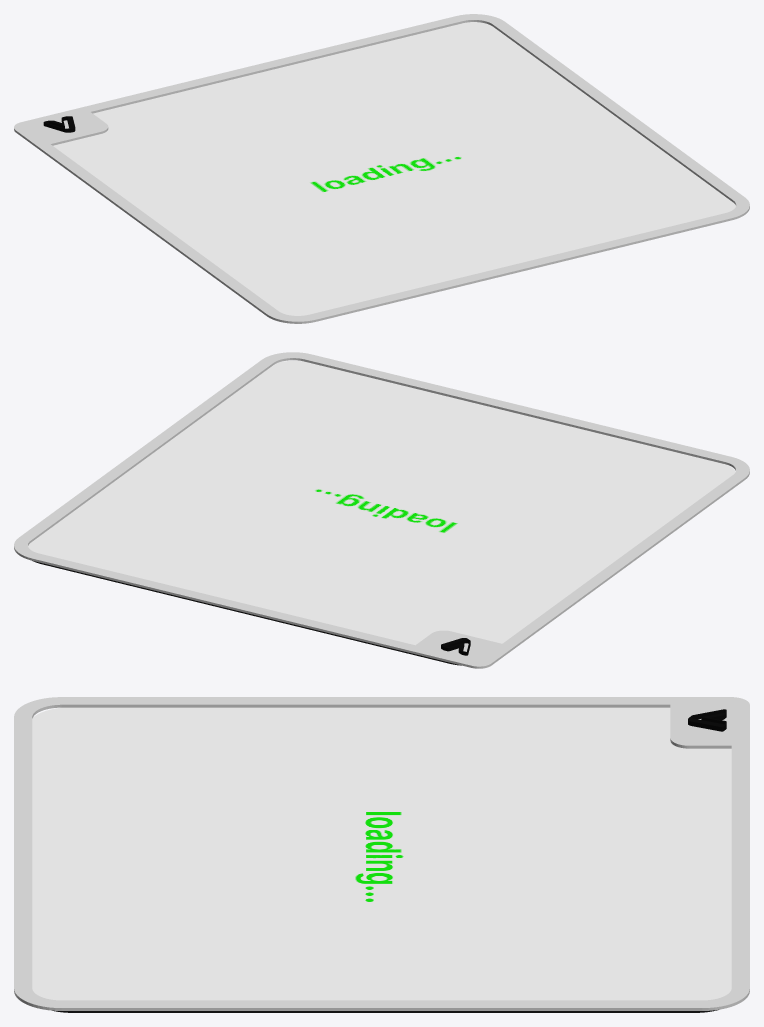
Rendered from Frame-Simple-1x1.glb.
The picture shows the model from 3 angles, top to bottom: view 1: azimuth 30°, elevation 25°; view 2: azimuth 150°, elevation 25°; view 3: azimuth 270°, elevation 25°; orthographic projection. The views are drawn at different scales.
Visible parts, largest first — view 1: Middle, Curve; view 2: Middle, Curve, Back; view 3: Middle, Curve, Back.
Boxes of the visible parts, x1,y1,x2,y2 form: Middle: [53, 22, 735, 315]; Curve: [14, 14, 749, 323]; Middle: [28, 361, 735, 645]; Curve: [14, 352, 749, 668]; Back: [32, 560, 461, 665]; Middle: [32, 707, 731, 1000]; Curve: [14, 697, 749, 1010]; Back: [52, 1009, 718, 1012].
Size of the model in its own units: 2.07 by 0.0436 by 2.07.
Materials: 6 (2 with a texture image).
